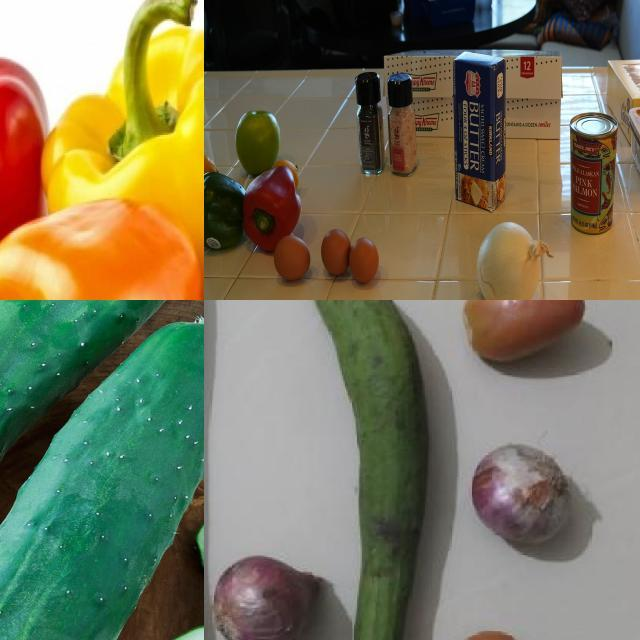bell_pepper: (51, 1, 205, 301), (1, 196, 205, 301), (247, 168, 301, 252), (205, 171, 248, 251)
cucumber: (1, 320, 205, 640), (1, 301, 197, 541)
egg: (275, 239, 311, 283), (324, 228, 352, 279), (352, 235, 379, 287)
onion: (464, 441, 592, 557), (216, 556, 325, 640), (477, 218, 545, 301)
